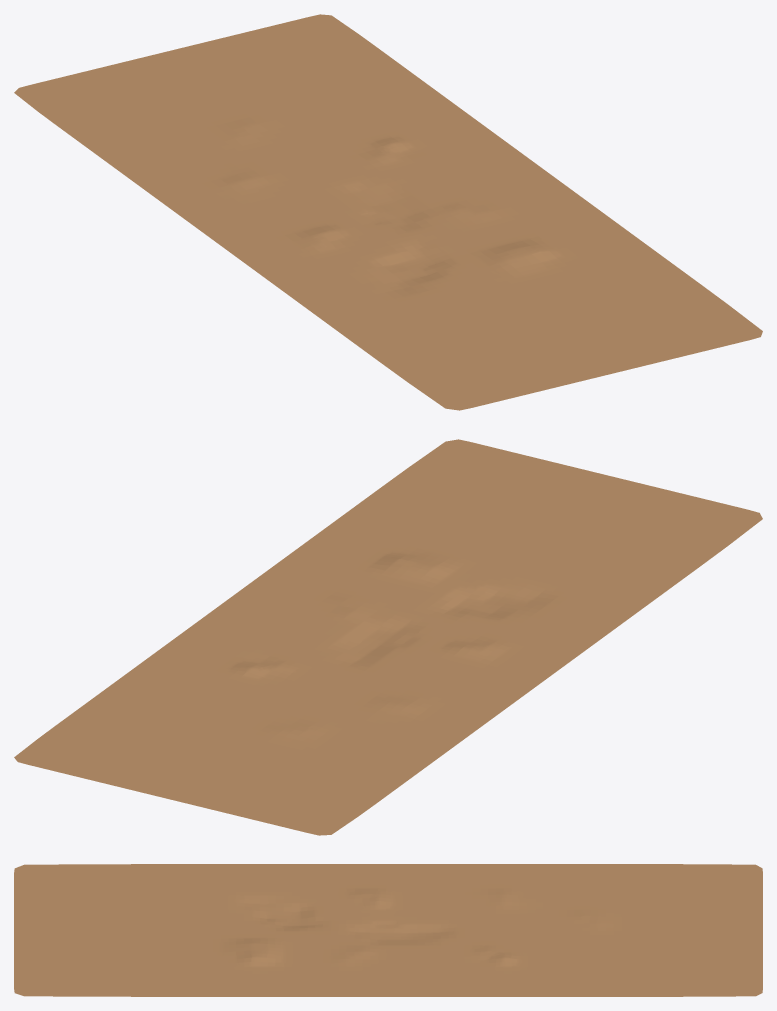
Rendered from Terrein.fbx.
The picture shows the model from 3 angles, top to bottom: view 1: azimuth 30°, elevation 25°; view 2: azimuth 150°, elevation 25°; view 3: azimuth 270°, elevation 25°; orthographic projection. The views are drawn at different scales.
Visible parts, largest first — view 1: Grid; view 2: Grid; view 3: Grid.
Part boxes in pixels (bbox=[...]): Grid: bbox=[14, 14, 762, 410]; Grid: bbox=[14, 439, 762, 835]; Grid: bbox=[14, 864, 762, 996].
Bounding box in the file's own units: 1944 × 30.79 × 4638.
